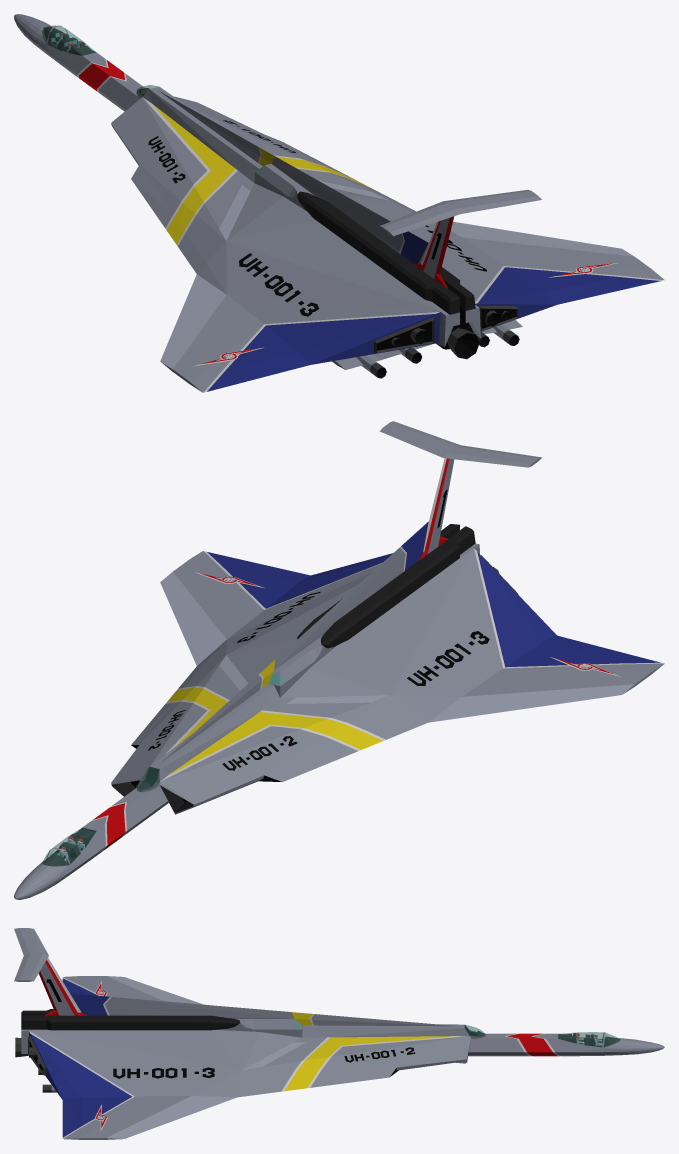
The picture shows the model from 3 angles, top to bottom: view 1: azimuth 30°, elevation 25°; view 2: azimuth 150°, elevation 25°; view 3: azimuth 270°, elevation 25°; orthographic projection. The views are drawn at different scales.
Parts seen in each view (by area): view 1: ShapeIndexedFaceSet.059_ShapeIndexedFaceSet.060, ShapeIndexedFaceSet.035_ShapeIndexedFaceSet.036, ShapeIndexedFaceSet.046_ShapeIndexedFaceSet.047, ShapeIndexedFaceSet.062_ShapeIndexedFaceSet.063, ShapeIndexedFaceSet.061_ShapeIndexedFaceSet.062, ShapeIndexedFaceSet.051_ShapeIndexedFaceSet.052, ShapeIndexedFaceSet.064_ShapeIndexedFaceSet.065, ShapeIndexedFaceSet.054_ShapeIndexedFaceSet.055, ShapeIndexedFaceSet.029_ShapeIndexedFaceSet.030, ShapeIndexedFaceSet.026_ShapeIndexedFaceSet.027, ShapeIndexedFaceSet.065_ShapeIndexedFaceSet.066, ShapeIndexedFaceSet.050_ShapeIndexedFaceSet.051 (+19 smaller); view 2: ShapeIndexedFaceSet.059_ShapeIndexedFaceSet.060, ShapeIndexedFaceSet.035_ShapeIndexedFaceSet.036, ShapeIndexedFaceSet.046_ShapeIndexedFaceSet.047, ShapeIndexedFaceSet.062_ShapeIndexedFaceSet.063, ShapeIndexedFaceSet.064_ShapeIndexedFaceSet.065, ShapeIndexedFaceSet.061_ShapeIndexedFaceSet.062, ShapeIndexedFaceSet.054_ShapeIndexedFaceSet.055, ShapeIndexedFaceSet.051_ShapeIndexedFaceSet.052, ShapeIndexedFaceSet.026_ShapeIndexedFaceSet.027, ShapeIndexedFaceSet.029_ShapeIndexedFaceSet.030, ShapeIndexedFaceSet.065_ShapeIndexedFaceSet.066, ShapeIndexedFaceSet.071_ShapeIndexedFaceSet.072 (+12 smaller); view 3: ShapeIndexedFaceSet.059_ShapeIndexedFaceSet.060, ShapeIndexedFaceSet.062_ShapeIndexedFaceSet.063, ShapeIndexedFaceSet.035_ShapeIndexedFaceSet.036, ShapeIndexedFaceSet.046_ShapeIndexedFaceSet.047, ShapeIndexedFaceSet.051_ShapeIndexedFaceSet.052, ShapeIndexedFaceSet.061_ShapeIndexedFaceSet.062, ShapeIndexedFaceSet.054_ShapeIndexedFaceSet.055, ShapeIndexedFaceSet.026_ShapeIndexedFaceSet.027, ShapeIndexedFaceSet.064_ShapeIndexedFaceSet.065, ShapeIndexedFaceSet.009_ShapeIndexedFaceSet.010, ShapeIndexedFaceSet.029_ShapeIndexedFaceSet.030, ShapeIndexedFaceSet.065_ShapeIndexedFaceSet.066 (+15 smaller).
Boxes of the visible parts, x1,y1,x2,y2 form: ShapeIndexedFaceSet.059_ShapeIndexedFaceSet.060: (197,156,502,323); ShapeIndexedFaceSet.035_ShapeIndexedFaceSet.036: (111,96,413,273); ShapeIndexedFaceSet.046_ShapeIndexedFaceSet.047: (161,164,480,383); ShapeIndexedFaceSet.062_ShapeIndexedFaceSet.063: (173,237,651,381); ShapeIndexedFaceSet.061_ShapeIndexedFaceSet.062: (266,231,556,364); ShapeIndexedFaceSet.051_ShapeIndexedFaceSet.052: (297,191,475,314); ShapeIndexedFaceSet.064_ShapeIndexedFaceSet.065: (160,221,633,369); ShapeIndexedFaceSet.054_ShapeIndexedFaceSet.055: (226,165,390,240); ShapeIndexedFaceSet.029_ShapeIndexedFaceSet.030: (143,90,260,228); ShapeIndexedFaceSet.026_ShapeIndexedFaceSet.027: (142,89,370,191); ShapeIndexedFaceSet.065_ShapeIndexedFaceSet.066: (223,267,617,373); ShapeIndexedFaceSet.050_ShapeIndexedFaceSet.051: (239,225,516,350); ShapeIndexedFaceSet.059_ShapeIndexedFaceSet.060: (197,547,502,722); ShapeIndexedFaceSet.035_ShapeIndexedFaceSet.036: (111,655,427,803); ShapeIndexedFaceSet.046_ShapeIndexedFaceSet.047: (227,543,651,697); ShapeIndexedFaceSet.062_ShapeIndexedFaceSet.063: (173,559,651,696); ShapeIndexedFaceSet.064_ShapeIndexedFaceSet.065: (160,572,634,722); ShapeIndexedFaceSet.061_ShapeIndexedFaceSet.062: (266,521,556,666); ShapeIndexedFaceSet.054_ShapeIndexedFaceSet.055: (226,638,390,697); ShapeIndexedFaceSet.051_ShapeIndexedFaceSet.052: (297,524,475,648); ShapeIndexedFaceSet.026_ShapeIndexedFaceSet.027: (151,666,279,781); ShapeIndexedFaceSet.029_ShapeIndexedFaceSet.030: (159,675,370,781); ShapeIndexedFaceSet.065_ShapeIndexedFaceSet.066: (223,567,618,667); ShapeIndexedFaceSet.071_ShapeIndexedFaceSet.072: (379,421,541,467); ShapeIndexedFaceSet.059_ShapeIndexedFaceSet.060: (29,1031,242,1097); ShapeIndexedFaceSet.062_ShapeIndexedFaceSet.063: (81,976,294,1137); ShapeIndexedFaceSet.035_ShapeIndexedFaceSet.036: (237,1036,469,1097); ShapeIndexedFaceSet.046_ShapeIndexedFaceSet.047: (21,1019,302,1139); ShapeIndexedFaceSet.051_ShapeIndexedFaceSet.052: (21,1009,240,1030); ShapeIndexedFaceSet.061_ShapeIndexedFaceSet.062: (30,1034,131,1099); ShapeIndexedFaceSet.054_ShapeIndexedFaceSet.055: (211,1021,301,1069); ShapeIndexedFaceSet.026_ShapeIndexedFaceSet.027: (263,1014,467,1066); ShapeIndexedFaceSet.064_ShapeIndexedFaceSet.065: (107,976,236,1138); ShapeIndexedFaceSet.009_ShapeIndexedFaceSet.010: (51,1032,664,1092); ShapeIndexedFaceSet.029_ShapeIndexedFaceSet.030: (302,1027,469,1037); ShapeIndexedFaceSet.065_ShapeIndexedFaceSet.066: (70,987,131,1126).
Bounding box in the file's own units: 236 × 78.26 × 401.
